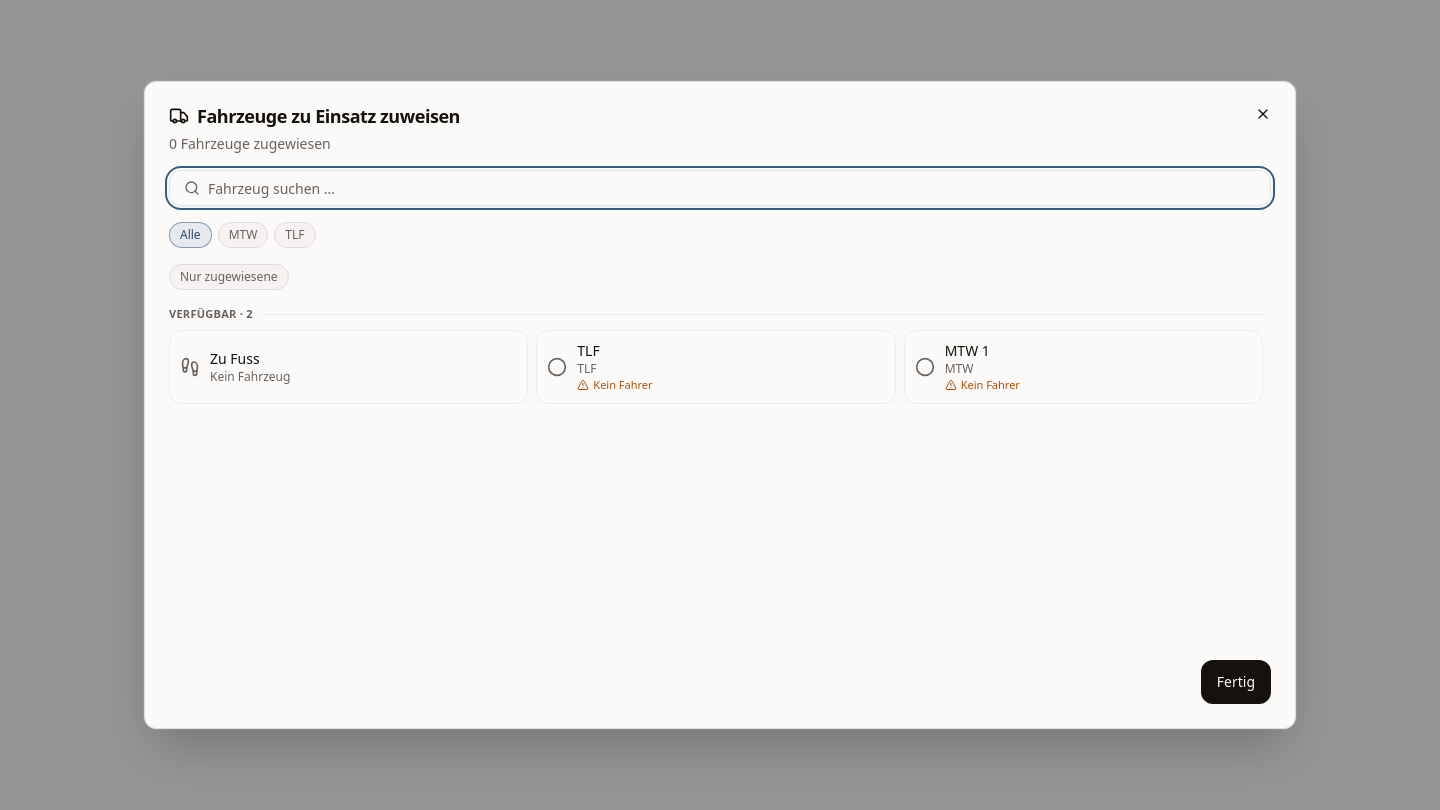
(a) a filter emptied the list › says «Keine Treffer», names the filter — not «alle bereits zugewiesen»
Click the button "Nur zugewiesene" at (229, 277), box [169,264,289,290]
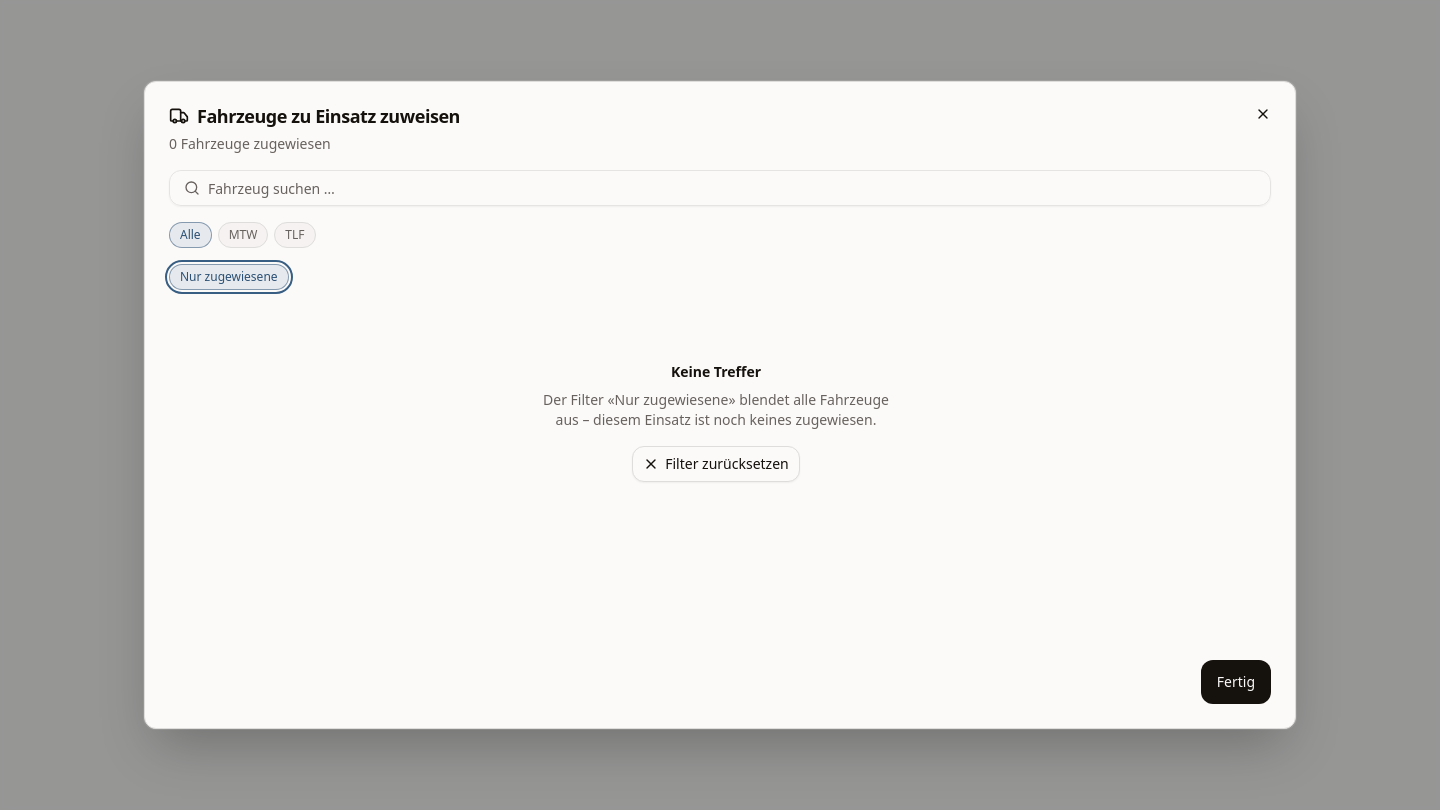
Check: the text "Keine Treffer" is shown, box [671,362,761,382]
Check: the message shows "«Nur zugewiesene»", box [543,390,889,429]
Check: the message shows "diesem Einsatz ist noch keines zugewiesen", box [543,390,889,429]
